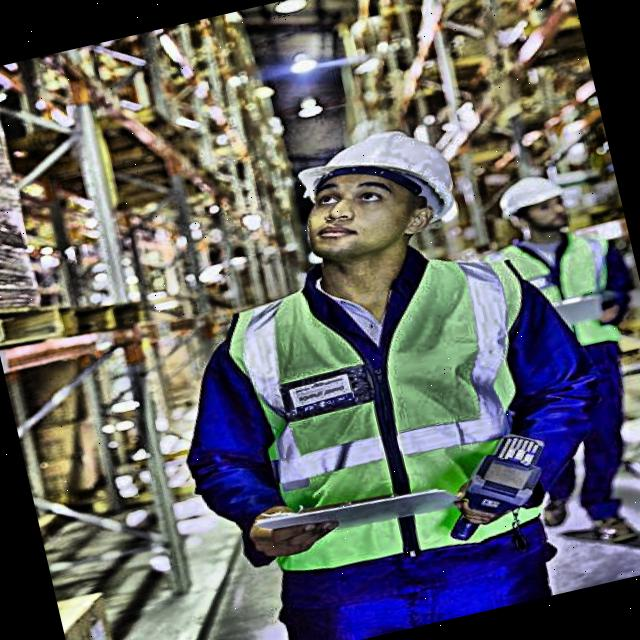helmet: (271, 103, 478, 290), (488, 161, 584, 251)
